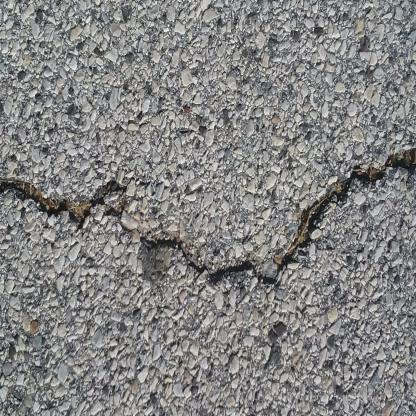Cracks: (0, 140, 416, 290)
